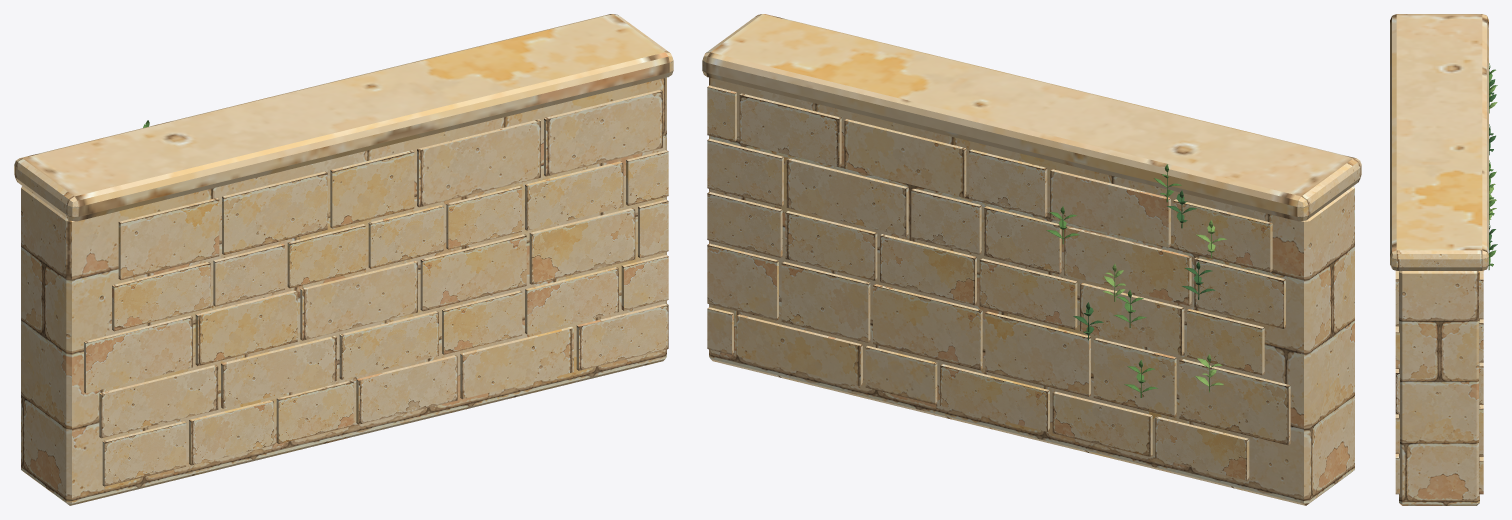
3 renders of one model, left to right at view 1: azimuth 30°, elevation 25°; view 2: azimuth 150°, elevation 25°; view 3: azimuth 270°, elevation 25°, orthographic. The views are drawn at different scales.
Visible parts, largest first — view 1: seaside_stone; view 2: seaside_stone, house_paint; view 3: seaside_stone, house_paint.
Part boxes in pixels (x1,y1,x2,y2): seaside_stone: (14, 14, 673, 505); seaside_stone: (702, 14, 1361, 505); house_paint: (1046, 164, 1226, 397); seaside_stone: (1390, 14, 1488, 505); house_paint: (1488, 63, 1497, 269).
Size of the model in its own units: 2.54 by 1.26 by 0.4792.
2 materials, 2 textured.
